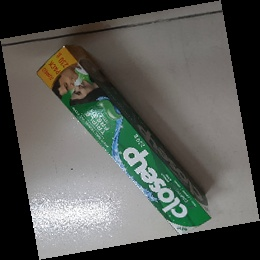CloseUp Xanh: (37, 45, 211, 236)
